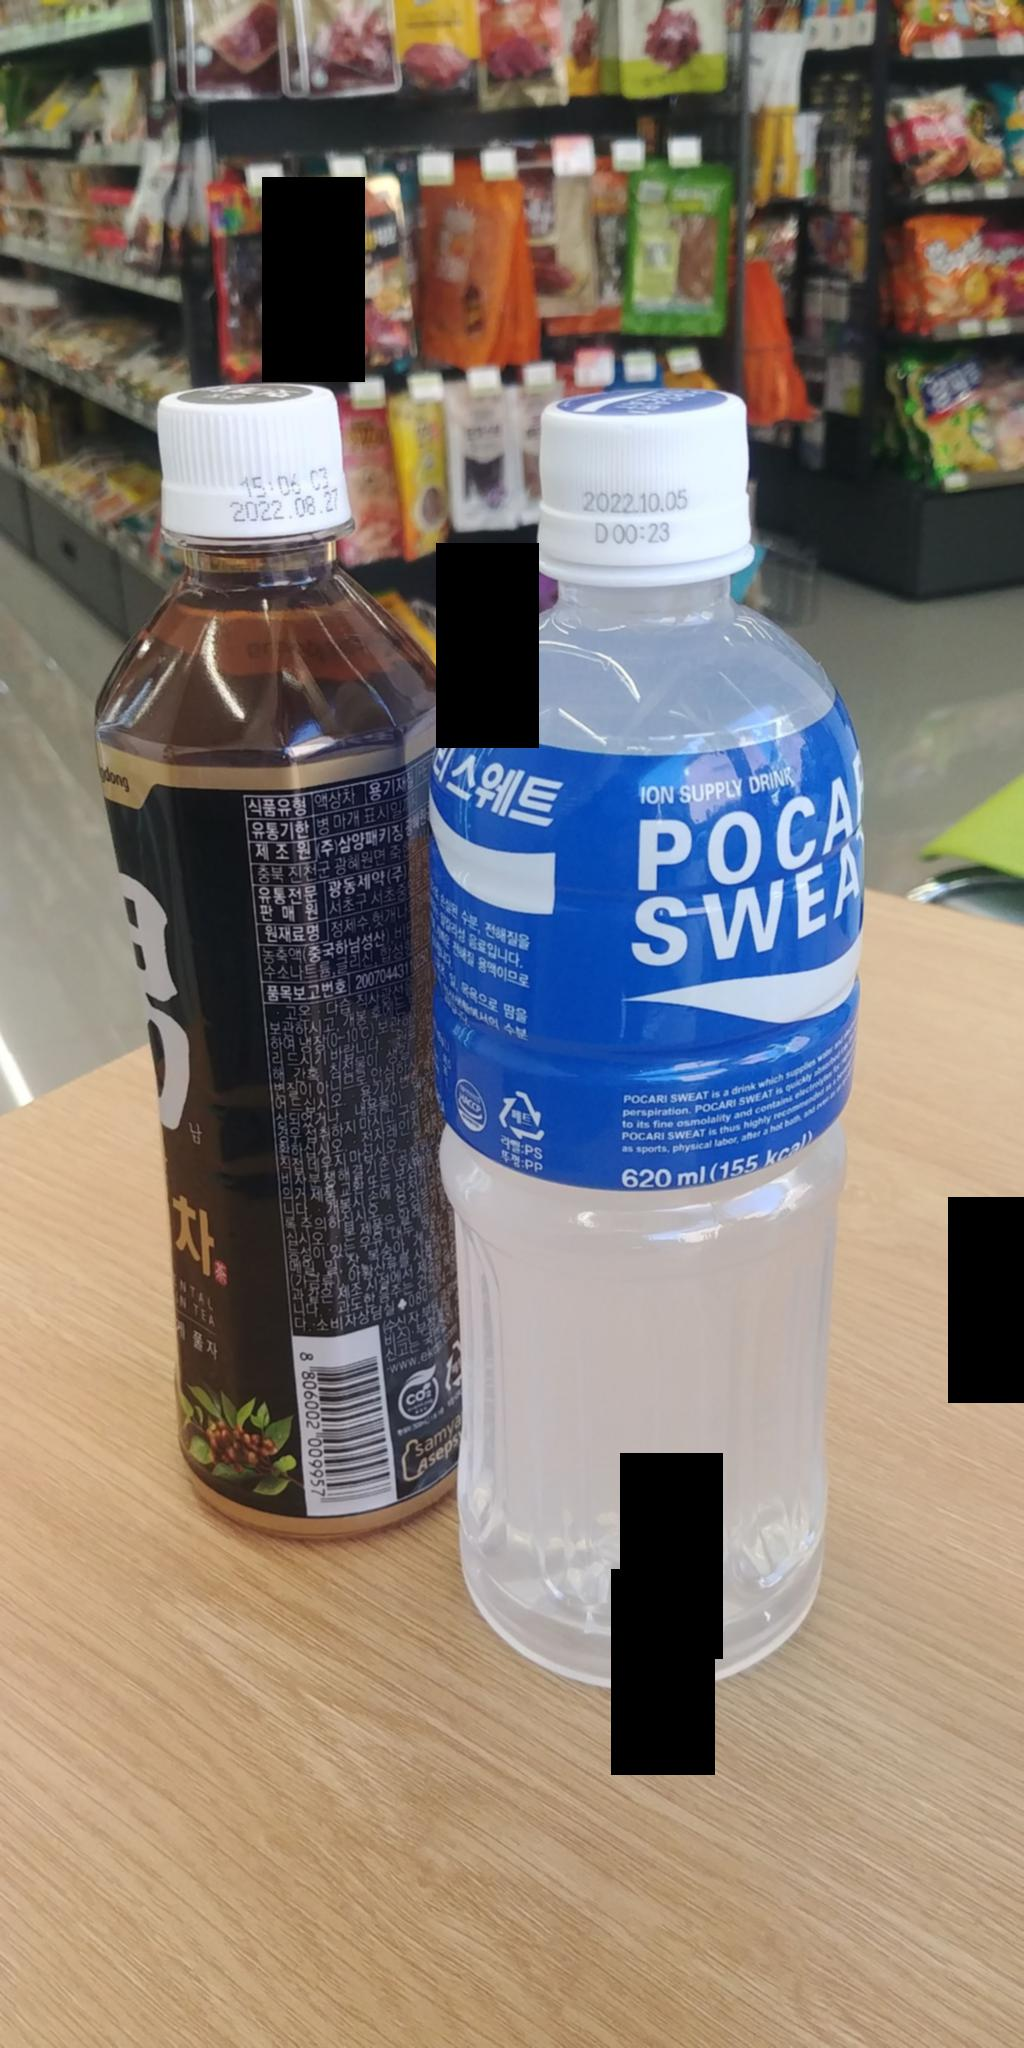heotgaecha: (78, 363, 499, 1543)
pocarisweat: (404, 354, 869, 1715)
